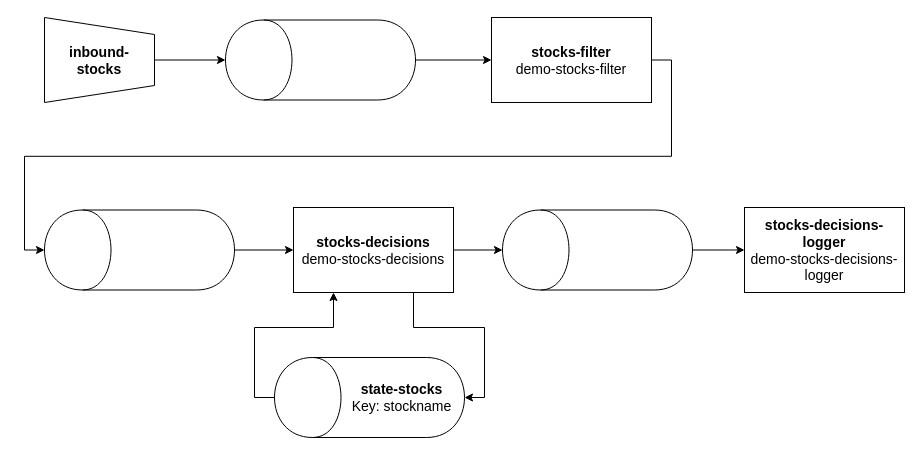
Image size: 922x455. Some labels were removed from this diagram. Each missing label, with the centre of its shape:
"decisions Key: stockname" goes at point (597, 249).
"filtered-stocks Key: stockname" goes at point (139, 249).
"inbound-stocks Key: event id" goes at point (320, 59).
